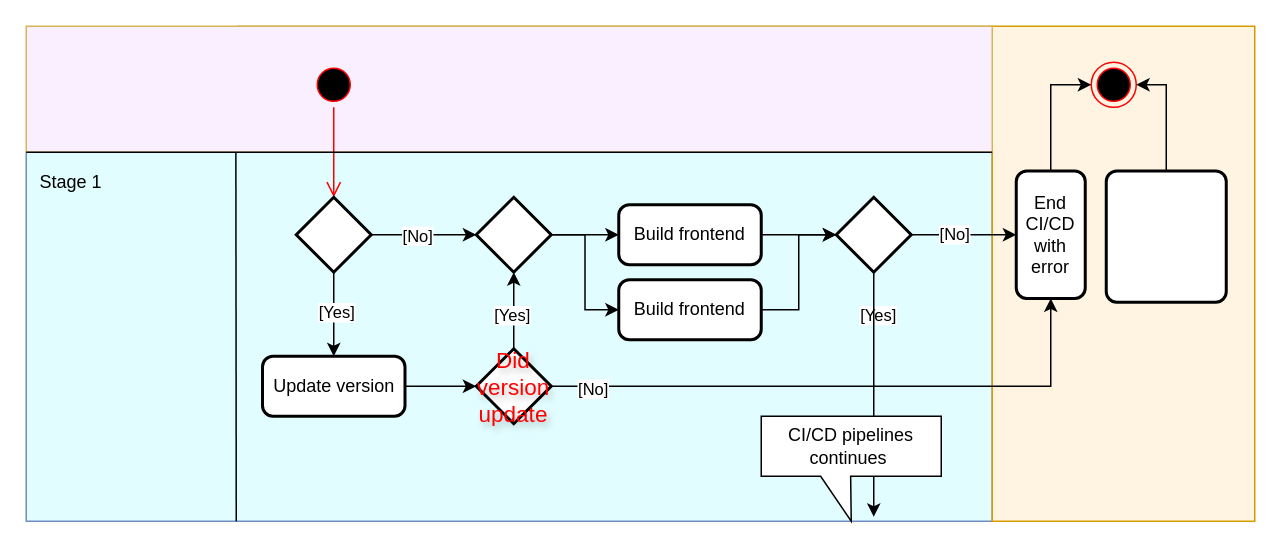
The diagram is 1281 pixels wide and 555 high, and some of its shapes have lost their labels. The box of each missing label's shape, as (x1, y1, x2, y2) in pixels:
Did both build successfully?: (834, 195, 912, 273)
End CI/CD with a green arrow indicating success: (1104, 169, 1227, 303)
Is versioning process triggered: (294, 195, 372, 273)
